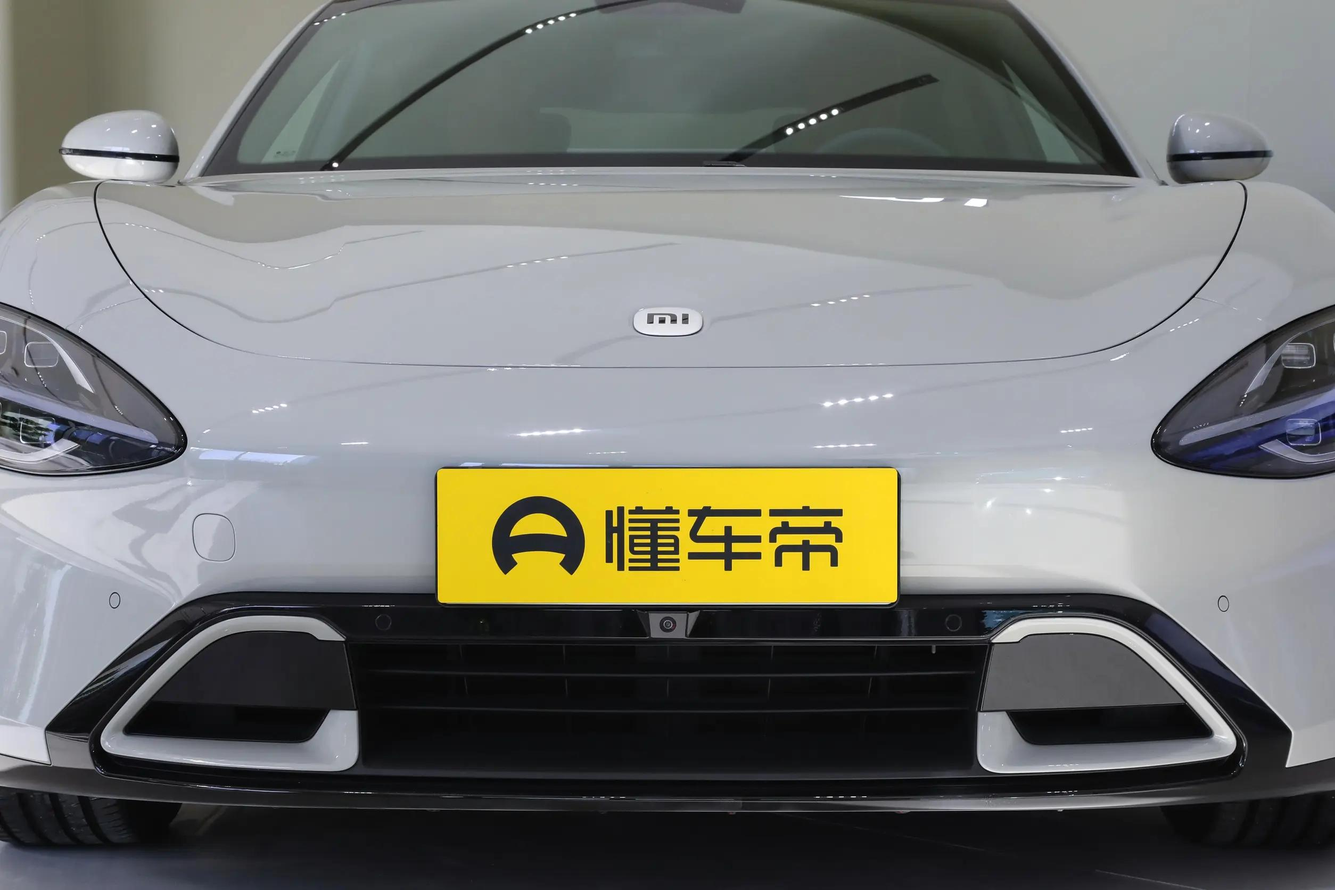XIAOMI: (633, 306, 703, 337)
